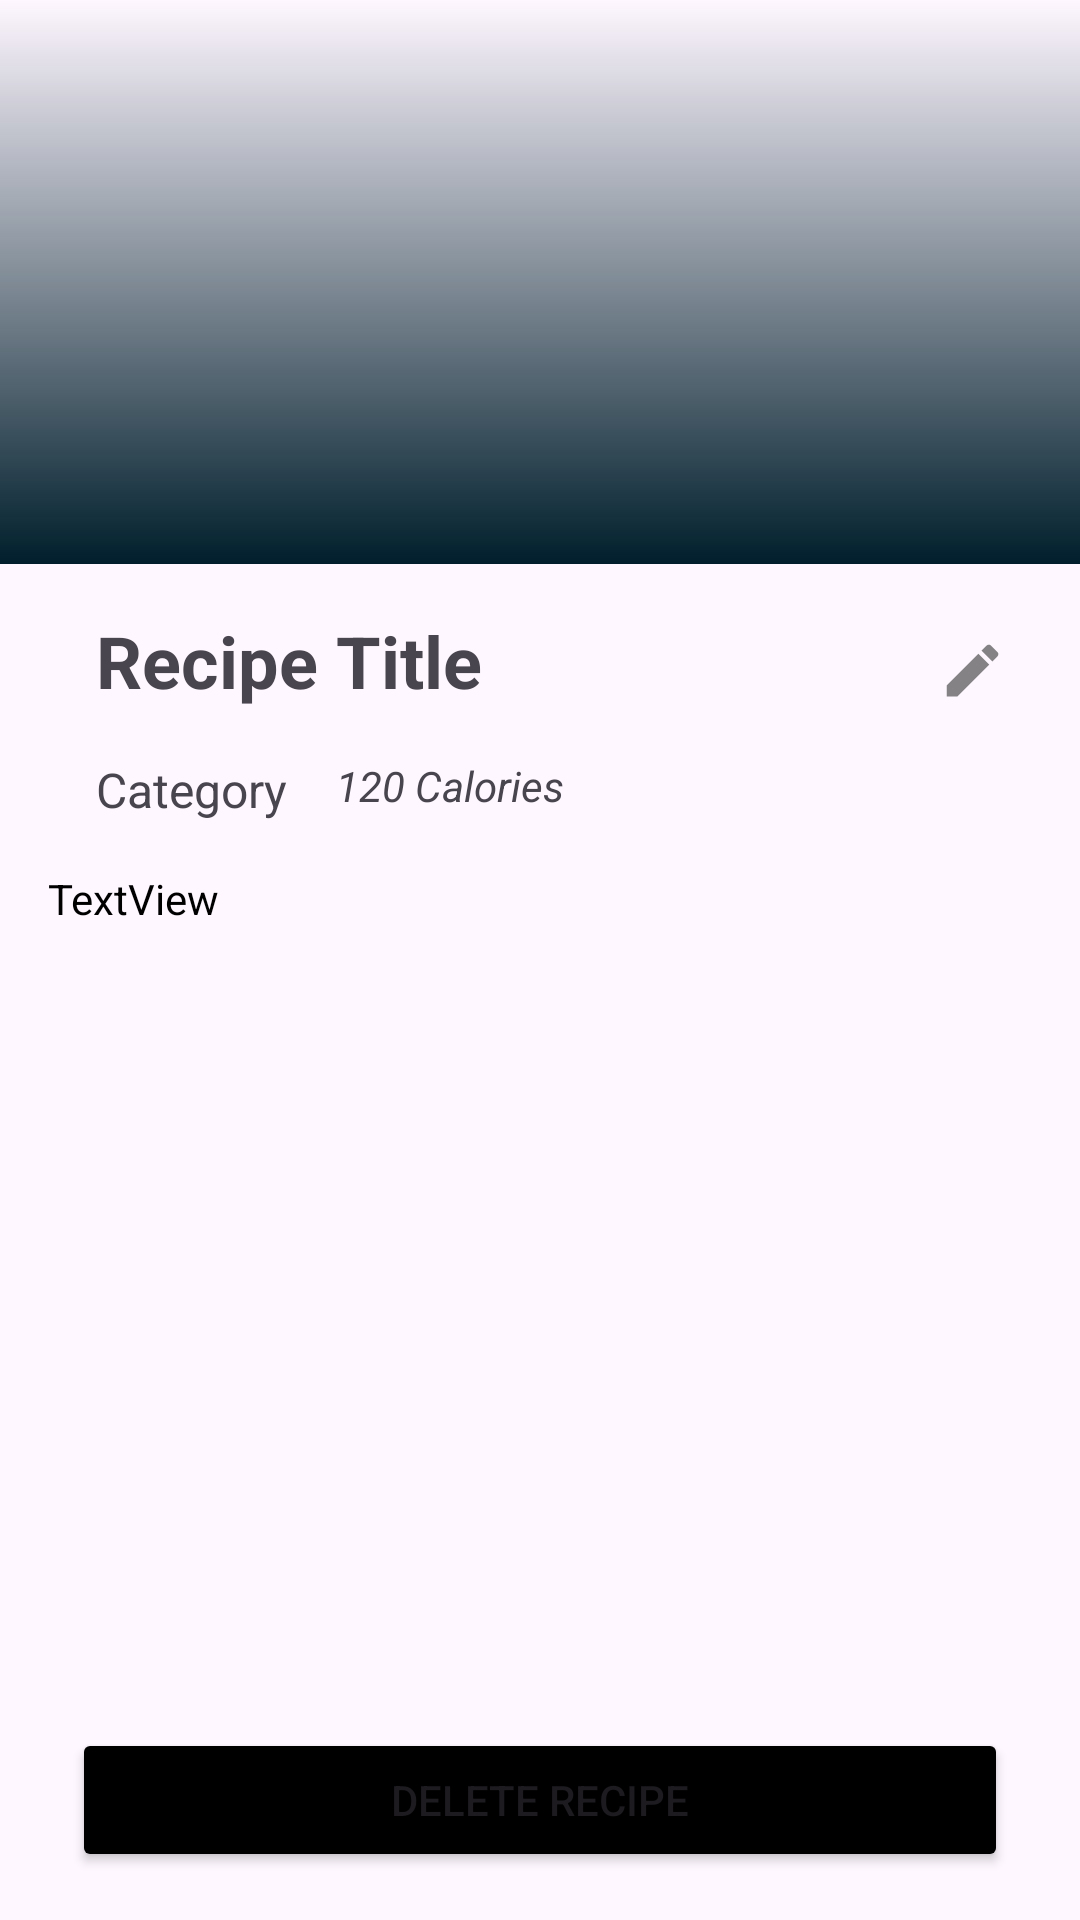

Where to tap for icons on this 1080 x 1920 app screen, as (x,y):
edit: (972,670)
